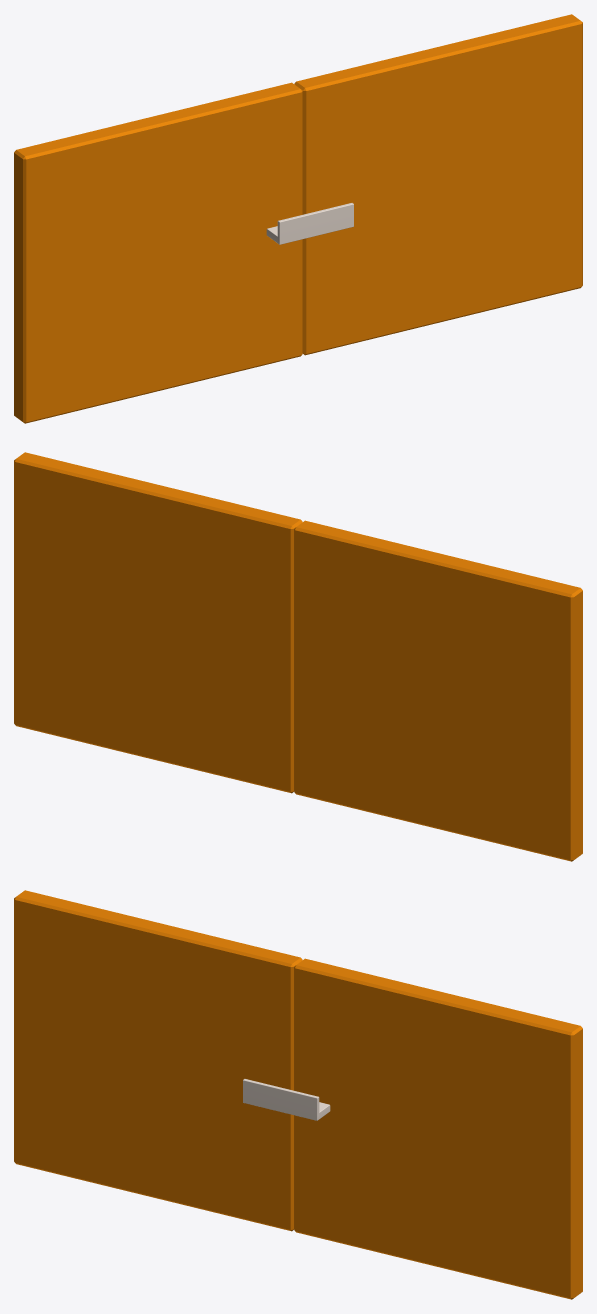
The model's file is Cabinet_e4545dd9.obj.
The picture shows the model from 3 angles, top to bottom: view 1: azimuth 30°, elevation 25°; view 2: azimuth 150°, elevation 25°; view 3: azimuth 330°, elevation 25°; orthographic projection.
Visible parts, largest first — view 1: Mesh_b6fe3b5c, Mesh_936b006d, handle_3_76mm_02_436186e7; view 2: Mesh_b6fe3b5c, Mesh_936b006d; view 3: Mesh_936b006d, Mesh_b6fe3b5c, handle_3_76mm_02_436186e7.
Boxes of the visible parts, bbox=[...] form: Mesh_b6fe3b5c: bbox=[14, 82, 302, 423]; Mesh_936b006d: bbox=[294, 14, 582, 355]; handle_3_76mm_02_436186e7: bbox=[266, 203, 353, 244]; Mesh_b6fe3b5c: bbox=[294, 520, 582, 861]; Mesh_936b006d: bbox=[14, 452, 302, 793]; Mesh_936b006d: bbox=[294, 958, 582, 1299]; Mesh_b6fe3b5c: bbox=[14, 890, 302, 1231]; handle_3_76mm_02_436186e7: bbox=[243, 1079, 330, 1120].
Bounding box in the file's own units: 0.57 × 0.26 × 0.0426.
